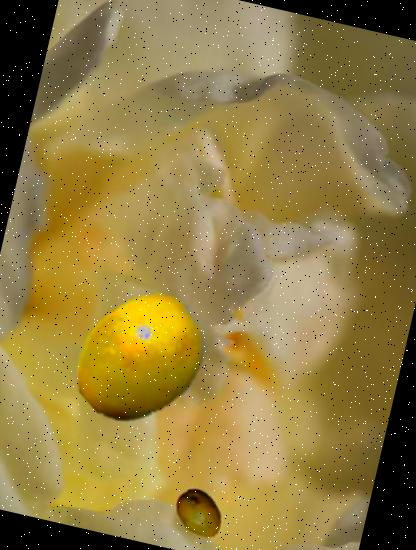Maracuja: (58, 275, 224, 441)
Papaya: (166, 482, 232, 546)
